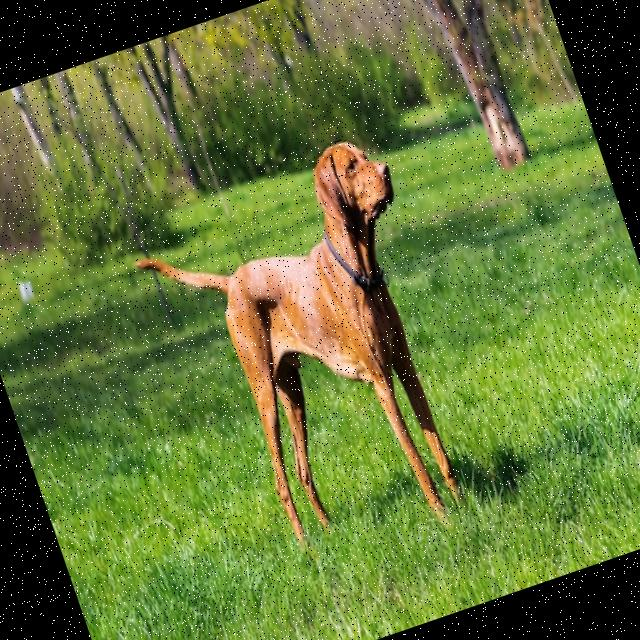Dog: (117, 130, 500, 584)
